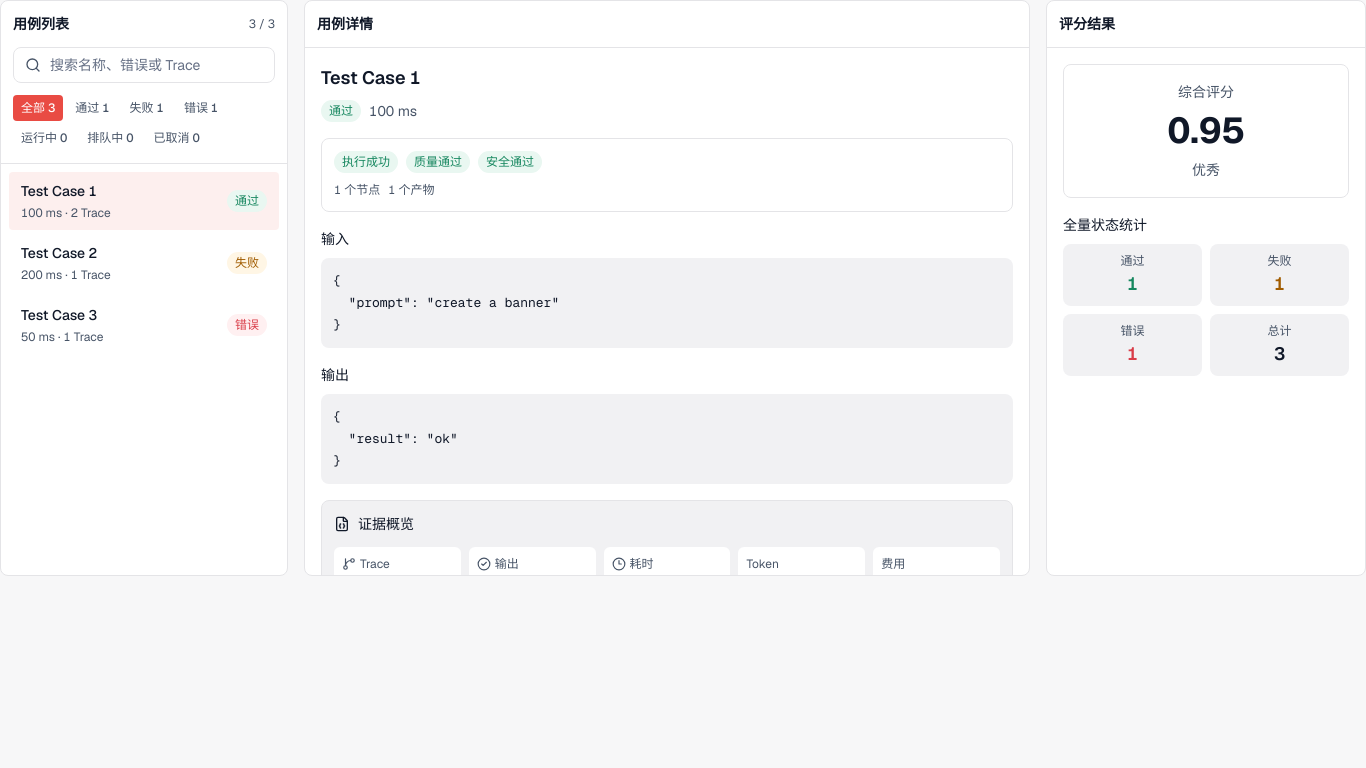
Scenario: RunResultWorkbench › supports keyword search while keeping the selected result visible
The width and height of the screenshot is (1366, 768).
Type "timeout" into the field named "搜索用例" at point(144, 65), box [13,47,275,83]
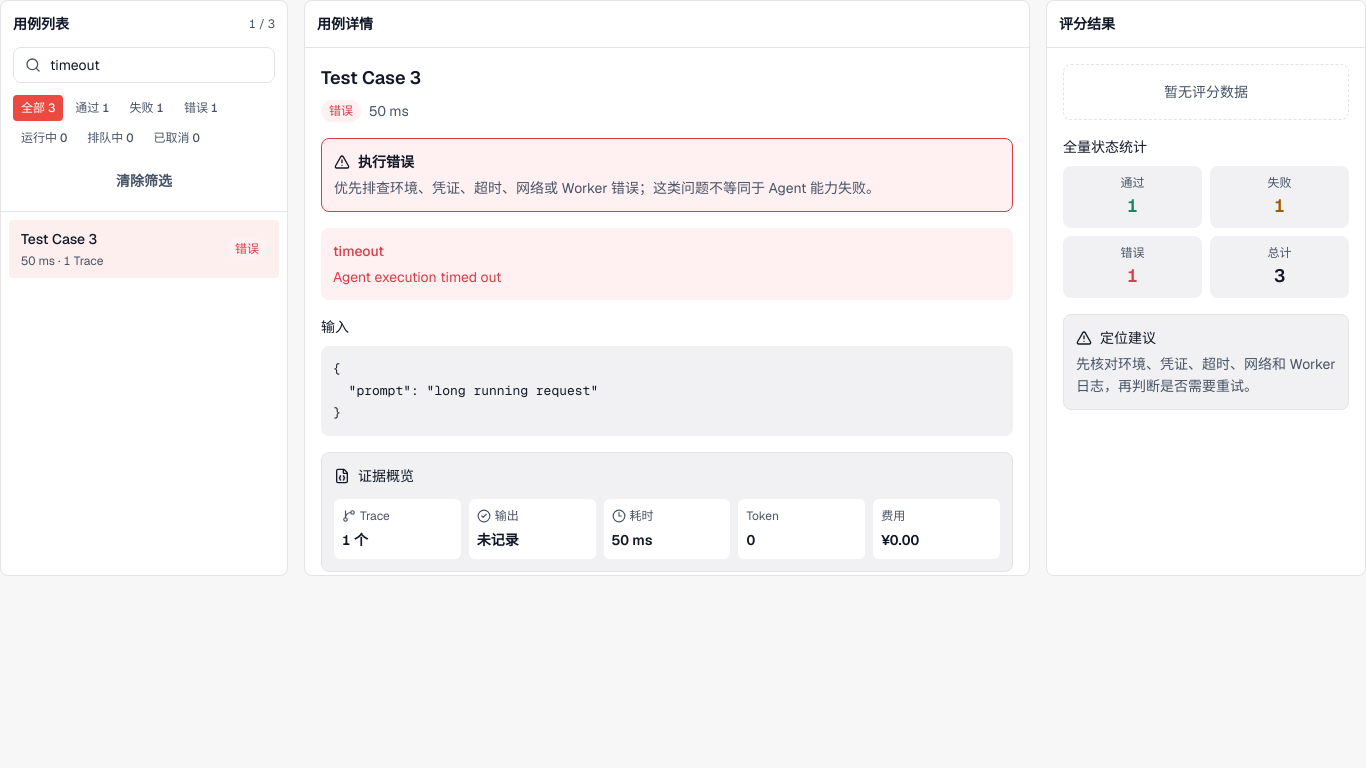
expect the button "Test Case 1" is gone: met
expect the heading "Test Case 3" is shown: met, box [321,66,421,89]
expect the text "timeout" is shown: met, box [333,242,384,260]
